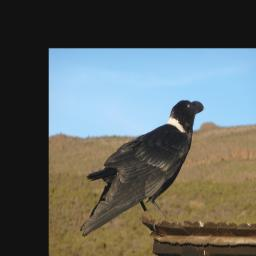Crow: (80, 95, 206, 237)
